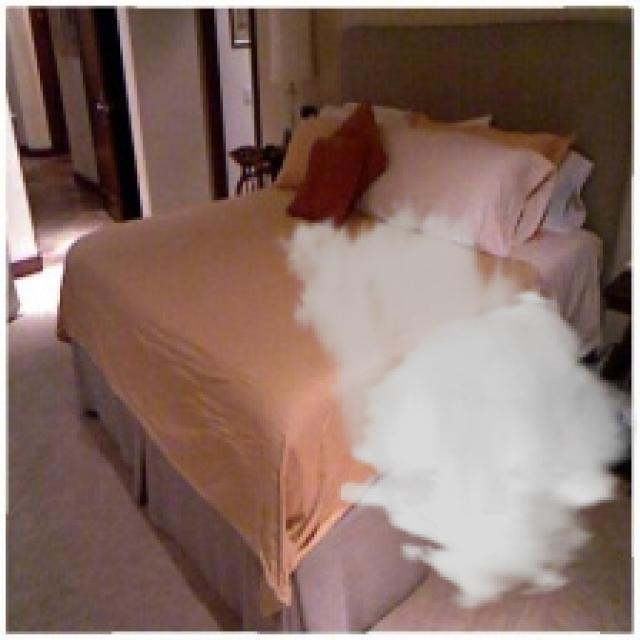smoke: (269, 192, 637, 612)
